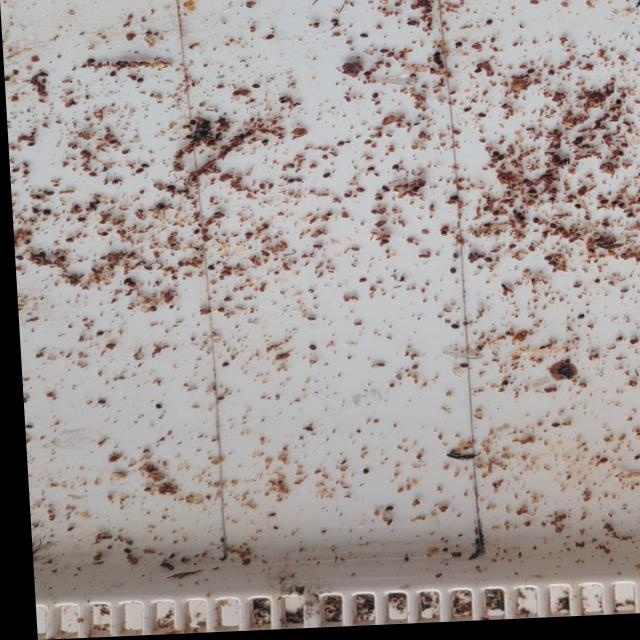varroa: (154, 203, 166, 214), (121, 282, 135, 291), (355, 280, 368, 289), (27, 208, 40, 217), (132, 169, 145, 178), (334, 144, 347, 153), (584, 253, 597, 262), (351, 190, 365, 198), (259, 140, 273, 148), (19, 238, 30, 248), (364, 169, 375, 179), (436, 234, 447, 244), (75, 217, 87, 226), (340, 196, 352, 205), (90, 332, 105, 339), (445, 327, 458, 335), (164, 185, 175, 194), (525, 194, 539, 201), (158, 565, 170, 573), (63, 238, 75, 246), (40, 209, 52, 217), (360, 143, 372, 151), (215, 119, 227, 127), (449, 256, 458, 266), (454, 46, 464, 55), (217, 363, 228, 371), (211, 397, 222, 405), (305, 347, 316, 355), (573, 319, 584, 327), (610, 341, 621, 349), (446, 272, 457, 280), (109, 180, 120, 188), (372, 199, 383, 207), (505, 248, 516, 256), (92, 400, 104, 407), (481, 262, 493, 269), (138, 165, 150, 172), (362, 74, 374, 81), (379, 509, 389, 517), (151, 405, 161, 413), (121, 279, 131, 287), (285, 181, 295, 189), (447, 199, 457, 207), (485, 24, 495, 32), (39, 73, 52, 79), (544, 266, 555, 273), (539, 260, 550, 267), (203, 267, 214, 274), (321, 176, 332, 183), (598, 228, 609, 235), (87, 173, 98, 180), (408, 78, 419, 85), (525, 73, 536, 80), (57, 256, 65, 265), (596, 205, 608, 211), (190, 230, 199, 238), (34, 194, 43, 202), (9, 168, 21, 174), (117, 549, 127, 556), (480, 227, 490, 234), (570, 209, 580, 216), (135, 79, 145, 86), (184, 135, 194, 142), (109, 72, 119, 79), (580, 149, 591, 155), (25, 142, 36, 148), (251, 87, 262, 93), (86, 60, 97, 66), (455, 368, 466, 374), (547, 75, 555, 83), (615, 105, 623, 113), (21, 424, 30, 431), (546, 202, 555, 209), (615, 156, 624, 163), (495, 160, 504, 167), (380, 52, 389, 59), (623, 219, 633, 225), (360, 37, 370, 43), (476, 118, 486, 124), (547, 428, 557, 434), (300, 430, 310, 436), (358, 472, 366, 479), (13, 255, 21, 262), (390, 168, 398, 175), (531, 223, 539, 230), (572, 142, 583, 147), (44, 192, 55, 197), (619, 149, 628, 155), (407, 368, 416, 374), (243, 235, 253, 240), (189, 121, 196, 128), (372, 96, 379, 103), (547, 229, 555, 235), (608, 207, 617, 212), (482, 211, 489, 217), (491, 156, 498, 162), (238, 136, 245, 142), (636, 178, 639, 185)
